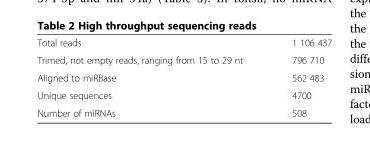table: (36, 36, 331, 118)
table column: (36, 36, 266, 118), (266, 36, 331, 118)
table row: (36, 50, 331, 68), (36, 68, 331, 86), (36, 86, 331, 103), (36, 103, 331, 118), (36, 36, 331, 50)
